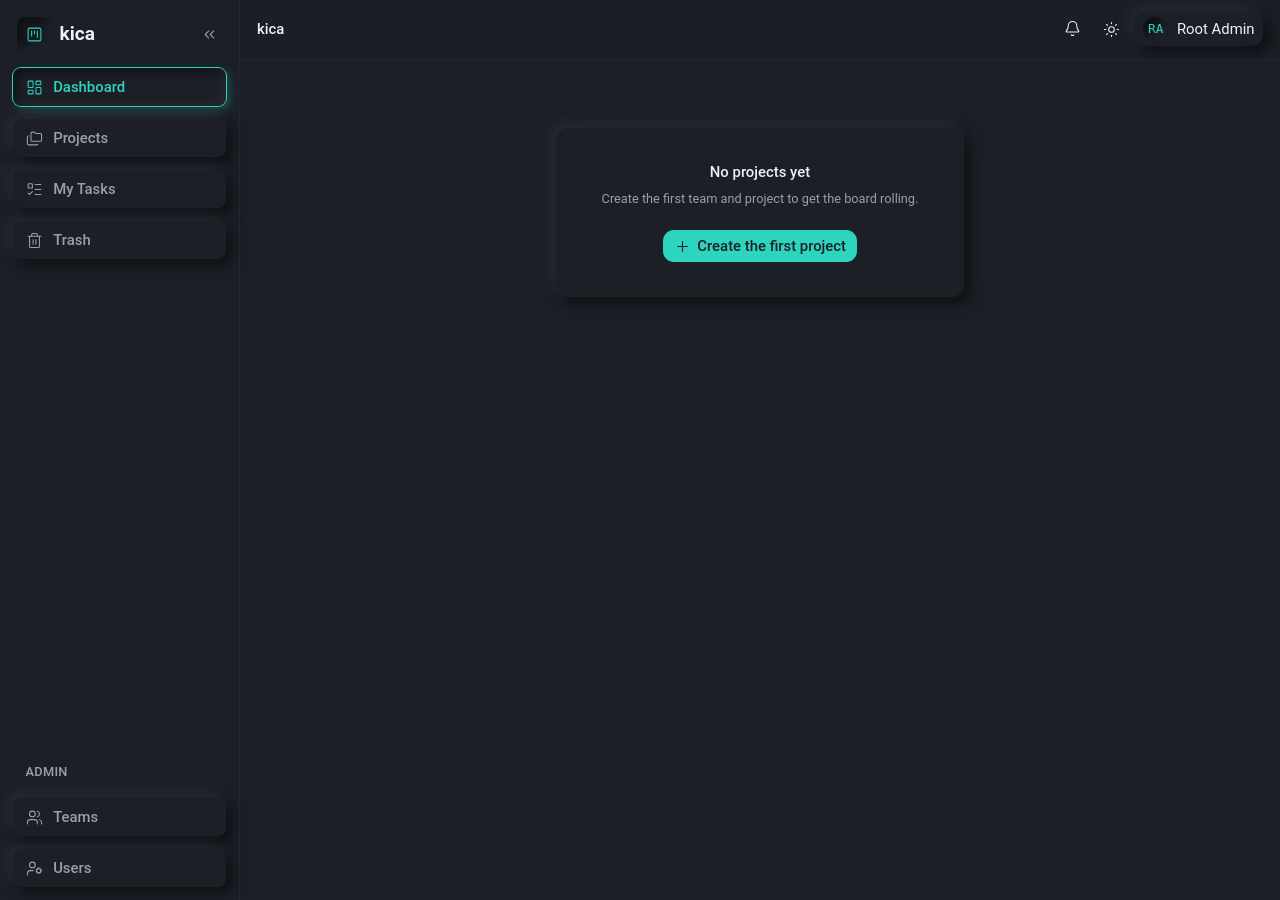
Test: Workspace empty-projects bootstrap › admin: CTA + sidebar admin nav; nav click opens Teams page
Expected: the button "Create the first project" is shown, [662,230,858,264]
Expected: the button "Users" is shown, [13,849,226,887]
Click the button "Teams" at (120, 817), box [13,798,226,836]
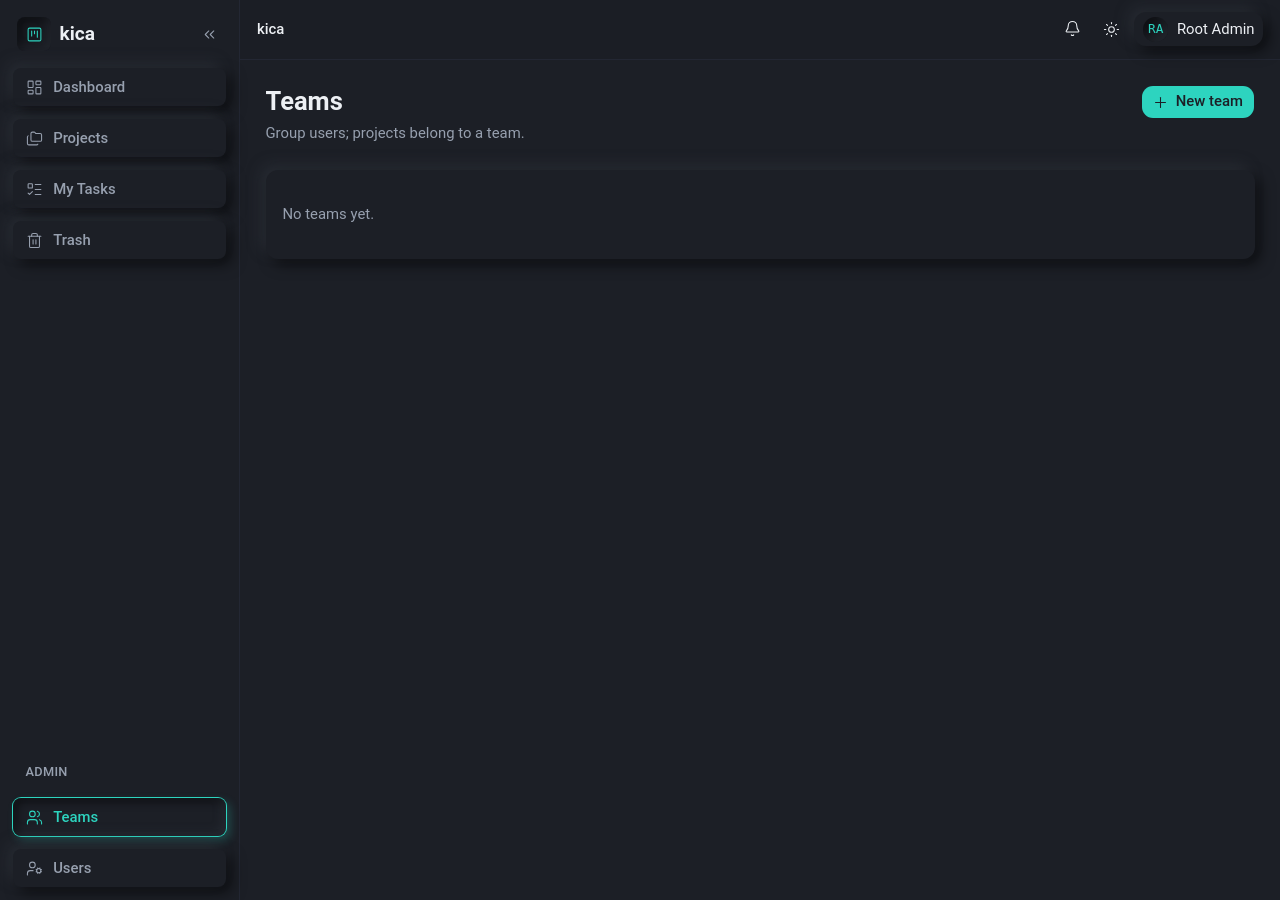
Expected: the button "New team" is shown, [1141,85,1254,119]
Expected: the heading "Teams" is shown, [266,86,343,116]
